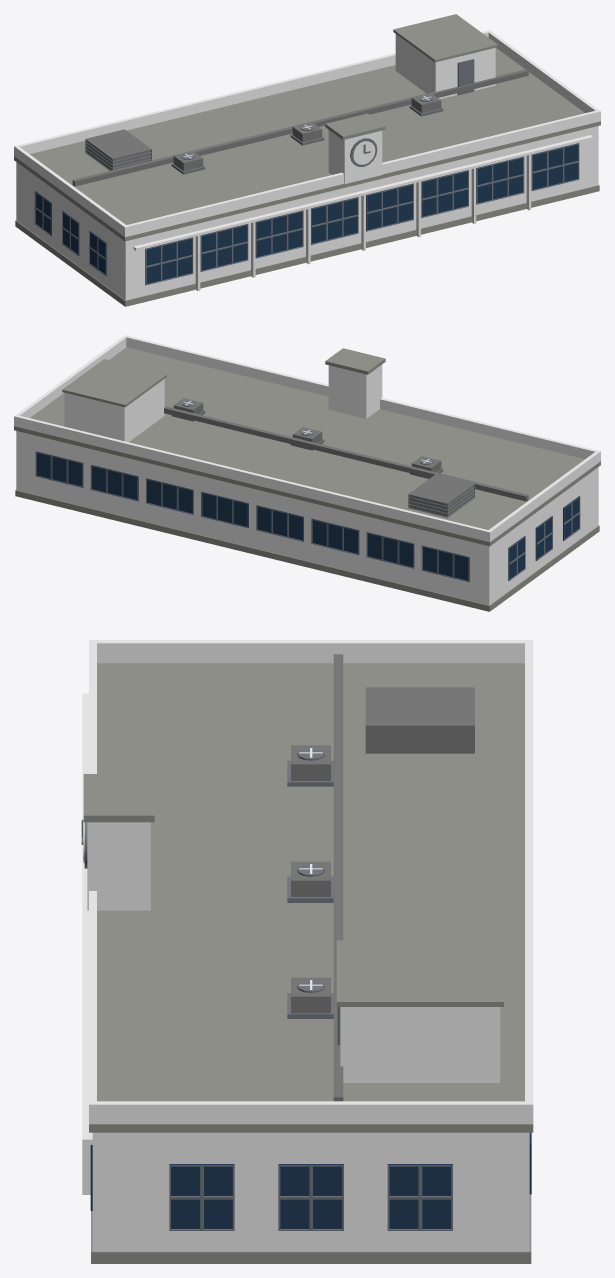
Rendered from mashup-main-top-prebuilt_close.fbx.
3 renders of one model, top to bottom at view 1: azimuth 30°, elevation 25°; view 2: azimuth 150°, elevation 25°; view 3: azimuth 270°, elevation 25°, orthographic. The views are drawn at different scales.
Visible parts, largest first — view 1: a200.MainTop.001; view 2: a200.MainTop.001; view 3: a200.MainTop.001.
Part boxes in pixels (bbox=[...]): a200.MainTop.001: bbox=[14, 14, 600, 306]; a200.MainTop.001: bbox=[14, 335, 600, 611]; a200.MainTop.001: bbox=[81, 640, 533, 1263].
Size of the model in its own units: 30.2 by 7.2 by 12.4.
